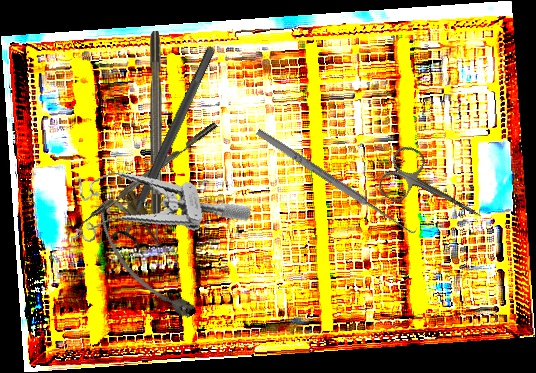Cannula: (88, 185, 206, 334)
Chopper: (70, 121, 223, 239)
Fixation Ring: (107, 40, 228, 254)
Hook Surgical: (254, 121, 421, 239), (150, 31, 162, 252)
Iris Scissors: (374, 141, 494, 242)
Speculum: (59, 144, 253, 257)
